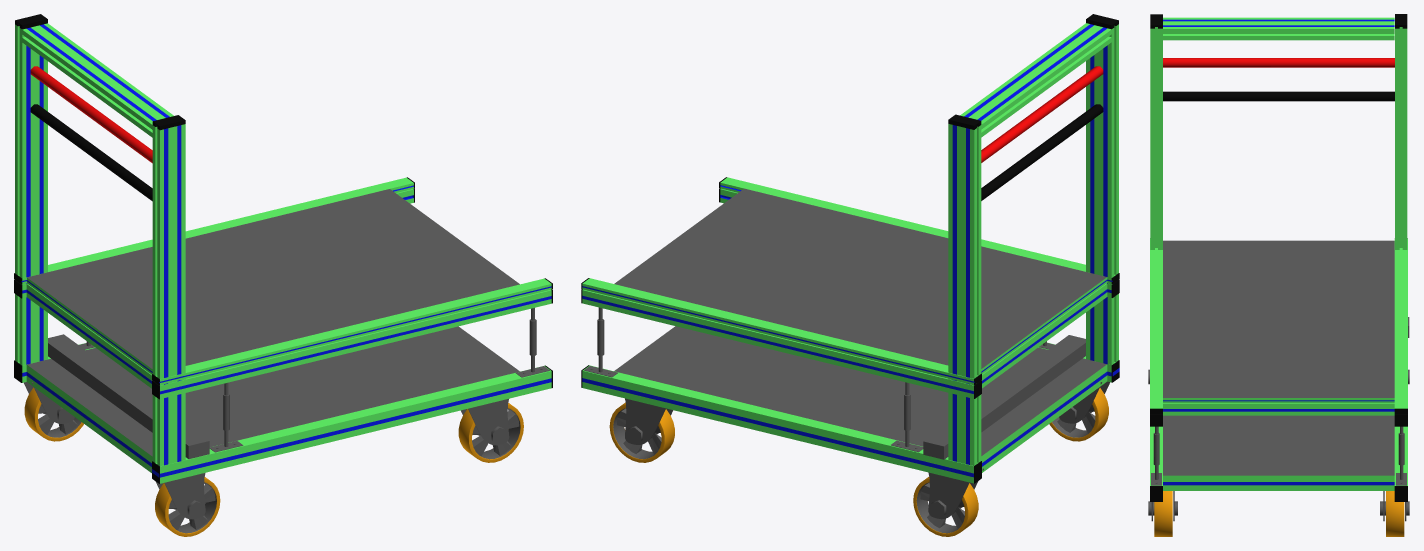
Rendered from RC02 Induktions-Kochkessel.FBX.
The picture shows the model from 3 angles, left to right: view 1: azimuth 30°, elevation 25°; view 2: azimuth 150°, elevation 25°; view 3: azimuth 270°, elevation 25°; orthographic projection. The views are drawn at different scales.
Parts seen in each view (by area): view 1: Trolly_1; view 2: Trolly_1; view 3: Trolly_1.
Boxes of the visible parts, x1,y1,x2,y2 form: Trolly_1: (14,14,552,536); Trolly_1: (581,14,1119,536); Trolly_1: (1148,14,1409,536).
Size of the model in its own units: 12.08 by 12.33 by 7.82.
